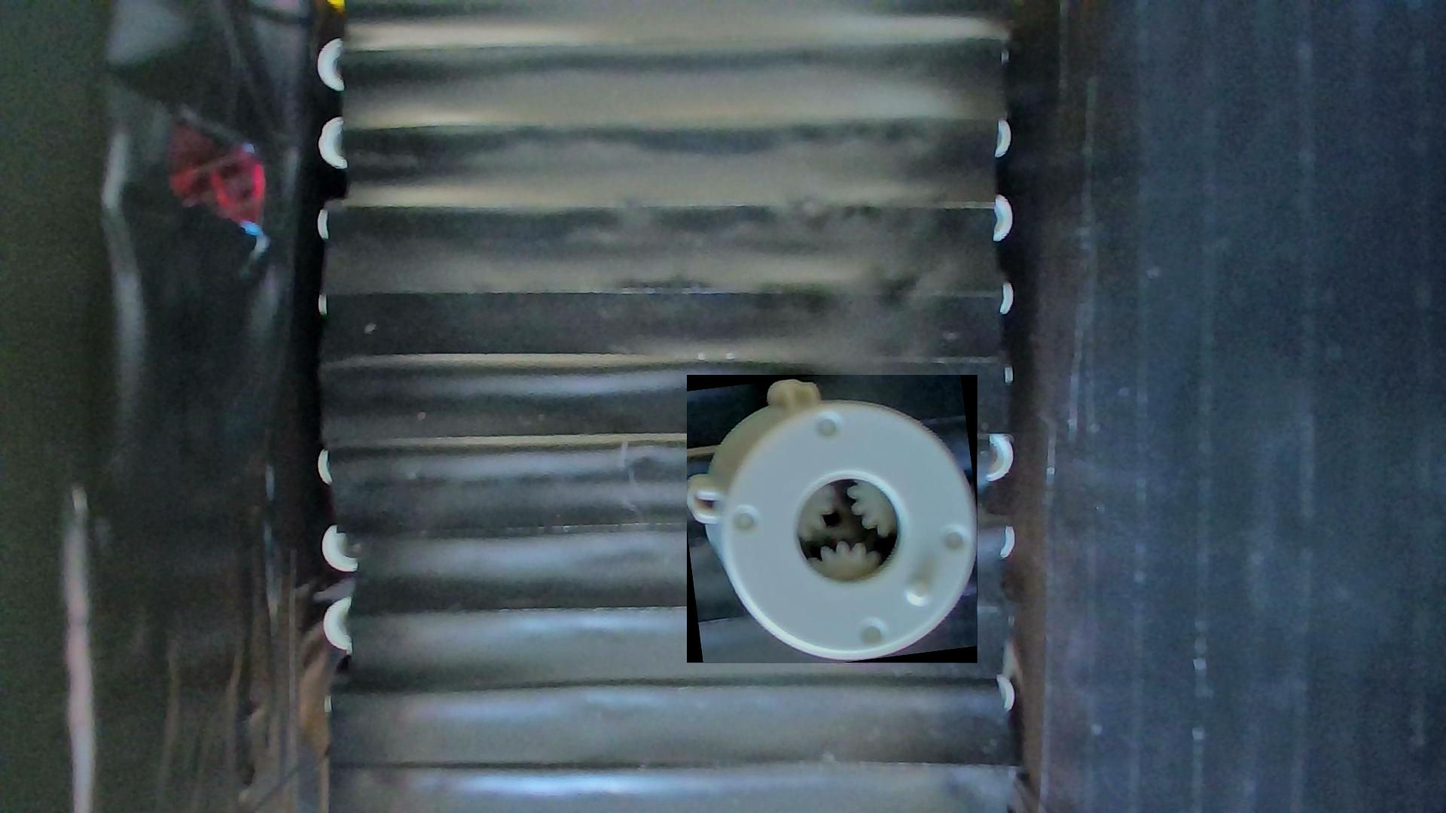cartridge: (688, 375, 978, 664)
